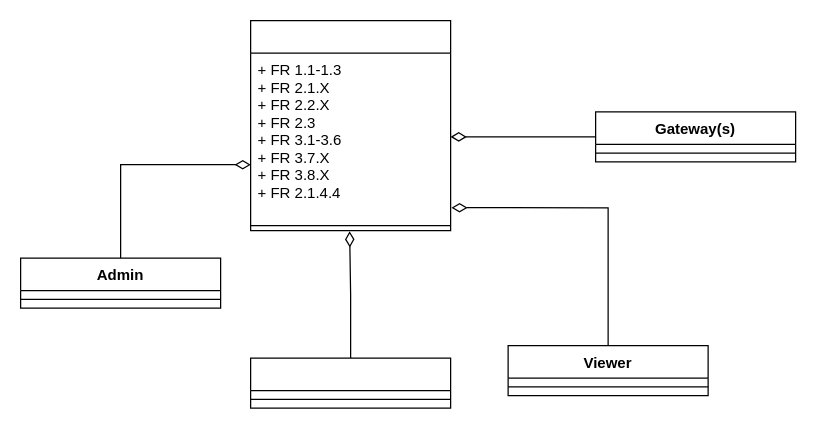
Some shapes in this 816 by 429 pixel diagram are drawn without their labels. The shapes that lost their labels are listed below. From the top down, each one's box as (x1, y1, x2, y2) in pixels, then its label:
(249, 19, 451, 231): GeoControl
(249, 357, 451, 408): Operator
